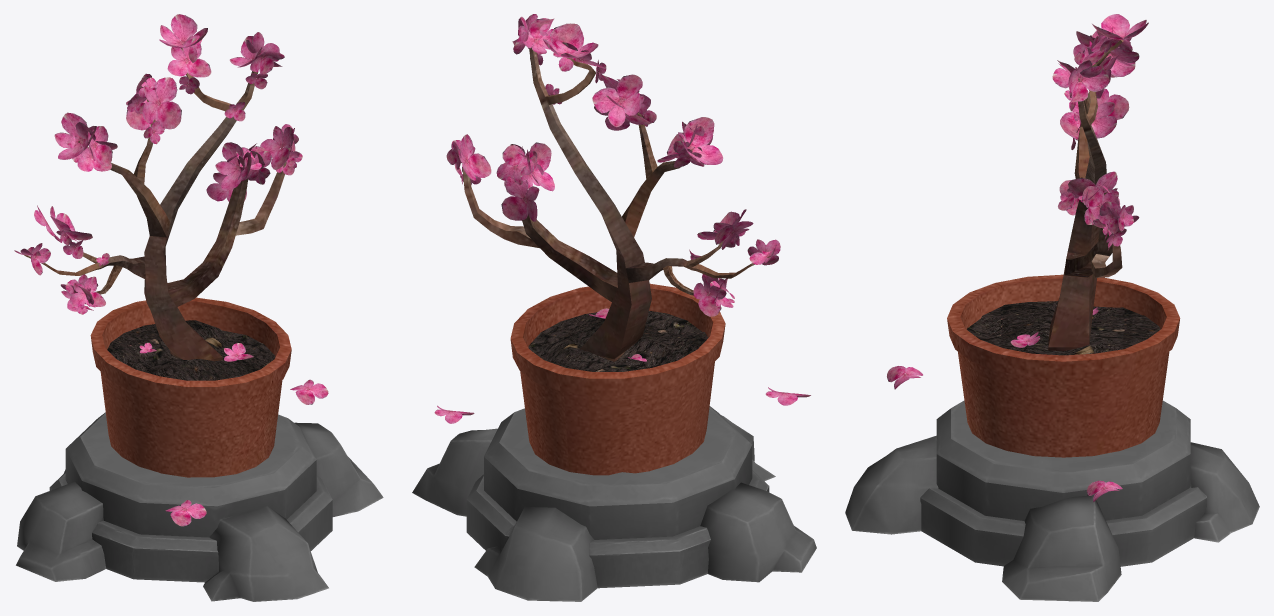
File: plantaSakura.glb
3 renders of one model, left to right at view 1: azimuth 30°, elevation 25°; view 2: azimuth 150°, elevation 25°; view 3: azimuth 270°, elevation 25°, orthographic. The views are drawn at different scales.
Size of the model in its own units: 1.72 by 2.23 by 1.67.
Materials: 5 (5 with a texture image).
